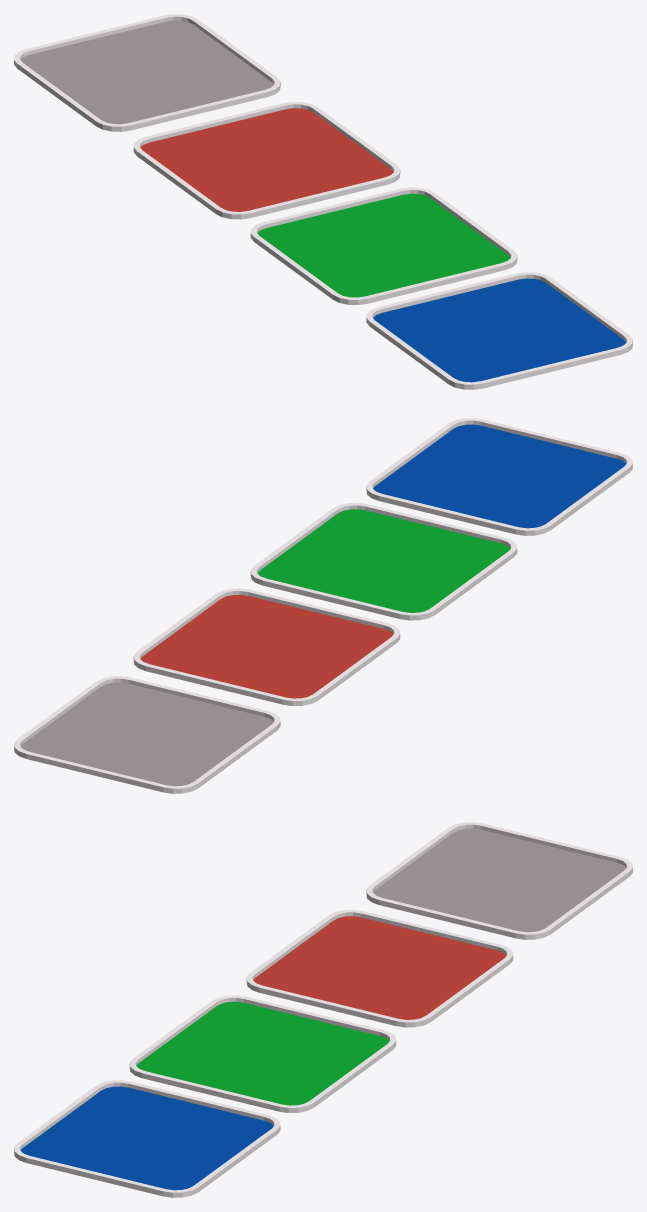
Rendered from bases.fbx.
3 renders of one model, top to bottom at view 1: azimuth 30°, elevation 25°; view 2: azimuth 150°, elevation 25°; view 3: azimuth 330°, elevation 25°, orthographic.
Visible parts, largest first — view 1: graybase, redbase, bluebase, greenbase, bluebase.001, redbase.001, greenbase.001, graybase.001; view 2: bluebase, graybase, redbase, greenbase, graybase.001, greenbase.001, redbase.001, bluebase.001; view 3: graybase, redbase, bluebase, greenbase, bluebase.001, redbase.001, greenbase.001, graybase.001.
Part boxes in pixels (<box>): graybase: <box>21,20,273,124</box>; redbase: <box>140,108,393,211</box>; bluebase: <box>373,278,626,382</box>; greenbase: <box>257,193,510,297</box>; bluebase.001: <box>366,272,632,389</box>; redbase.001: <box>133,101,400,219</box>; greenbase.001: <box>250,187,517,304</box>; graybase.001: <box>14,14,280,131</box>; bluebase: <box>373,424,625,528</box>; graybase: <box>20,682,273,786</box>; redbase: <box>140,594,393,698</box>; greenbase: <box>257,509,510,612</box>; graybase.001: <box>14,676,280,793</box>; greenbase.001: <box>250,503,517,620</box>; redbase.001: <box>133,588,400,706</box>; bluebase.001: <box>366,418,632,535</box>; graybase: <box>373,828,625,932</box>; redbase: <box>253,916,506,1019</box>; bluebase: <box>20,1086,273,1190</box>; greenbase: <box>136,1001,389,1105</box>; bluebase.001: <box>14,1080,280,1197</box>; redbase.001: <box>246,909,513,1027</box>; greenbase.001: <box>129,995,396,1112</box>; graybase.001: <box>366,822,632,939</box>.
Bounding box in the file's own units: 742 × 20 × 3246.
